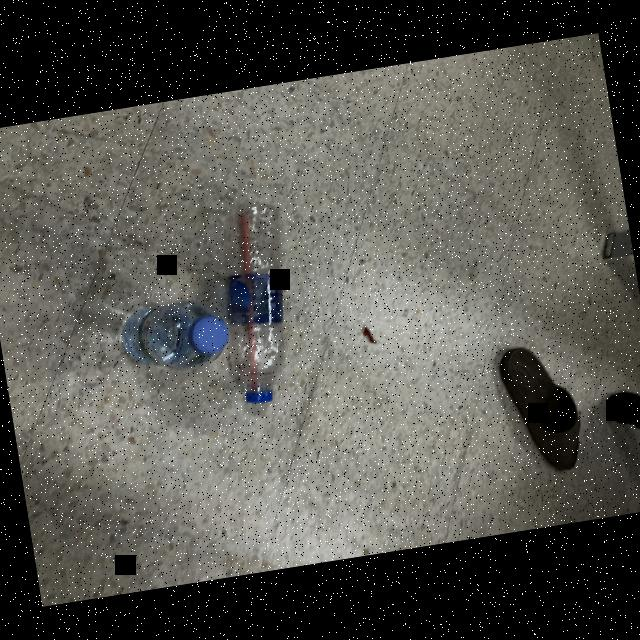plastic_bottle: (203, 200, 307, 410), (112, 294, 230, 379)
